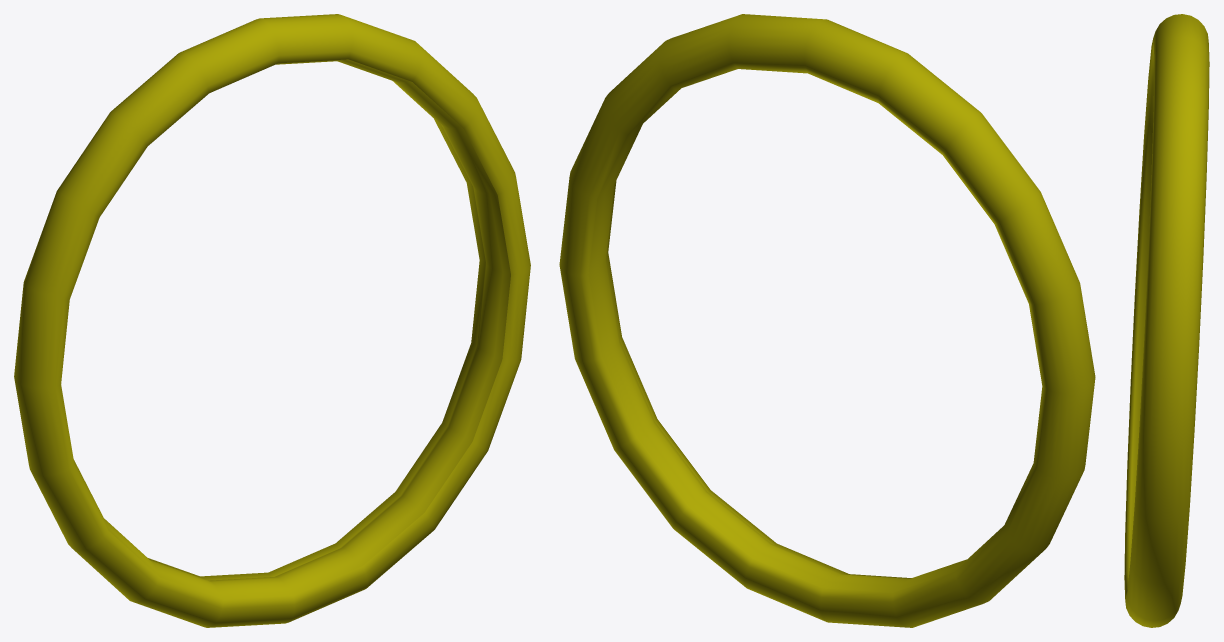
Rendered from ring.fbx.
3 renders of one model, left to right at view 1: azimuth 30°, elevation 25°; view 2: azimuth 150°, elevation 25°; view 3: azimuth 270°, elevation 25°, orthographic. The views are drawn at different scales.
Visible parts, largest first — view 1: pTorus1; view 2: pTorus1; view 3: pTorus1.
Part boxes in pixels (x1,y1,x2,y2): pTorus1: [14, 14, 530, 627]; pTorus1: [559, 14, 1095, 627]; pTorus1: [1124, 14, 1209, 627].
Size of the model in its own units: 1.13 by 1.25 by 0.1702.
